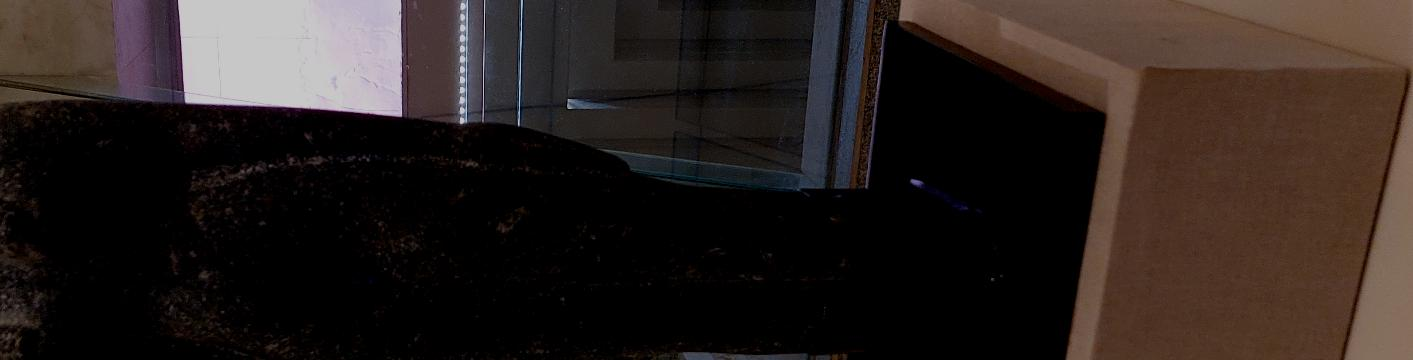RoyalStatues: (0, 40, 174, 360)
